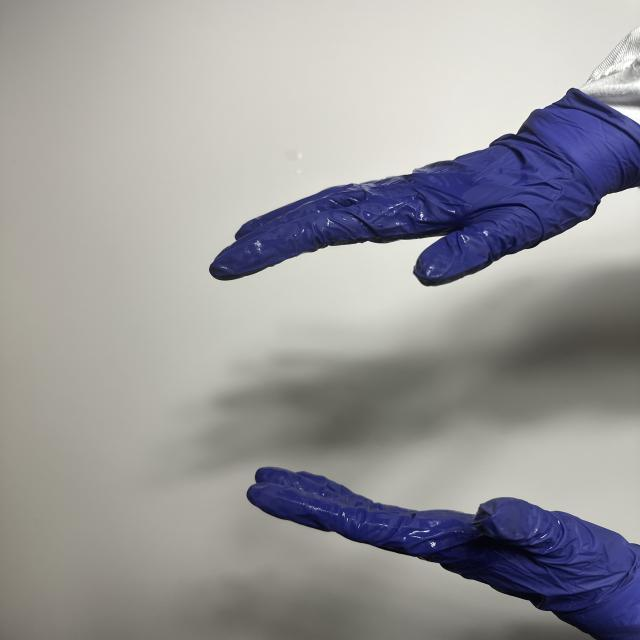gloves_contaminated: (210, 89, 640, 286), (248, 467, 640, 640)
